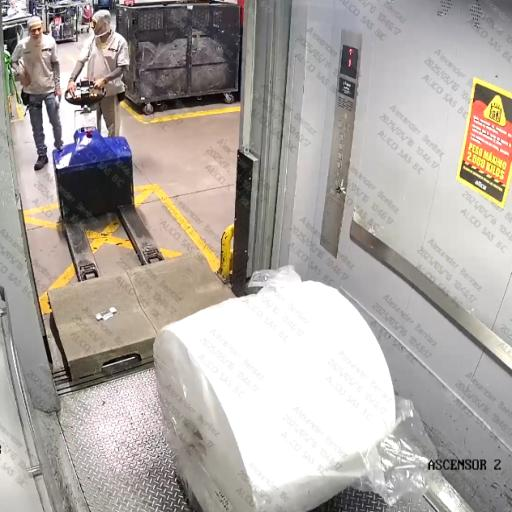rollos caidos: (31, 86, 471, 512)
